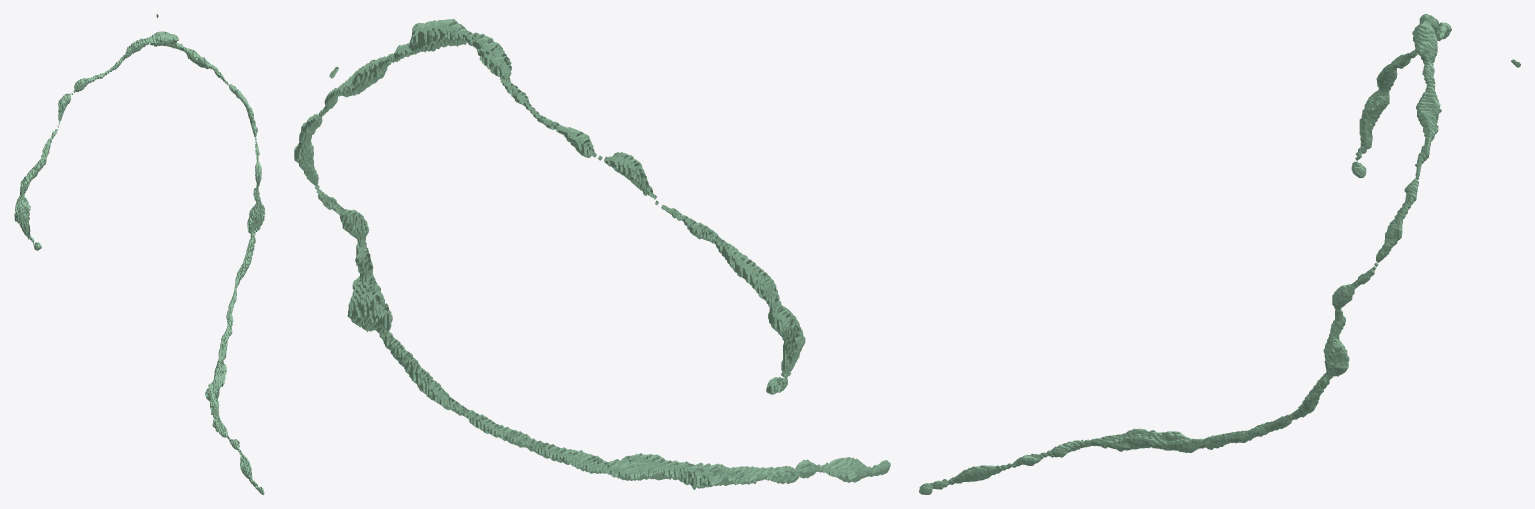
The model's file is SVV_ASER.gltf.
The picture shows the model from 3 angles, left to right: view 1: azimuth 30°, elevation 25°; view 2: azimuth 150°, elevation 25°; view 3: azimuth 270°, elevation 25°; orthographic projection. The views are drawn at different scales.
Visible parts, largest first — view 1: ASER; view 2: ASER; view 3: ASER.
Boxes of the visible parts, x1,y1,x2,y2 form: ASER: (14,14,265,494); ASER: (294,19,890,489); ASER: (919,14,1520,494).
Size of the model in its own units: 136052 by 174768 by 186037.
